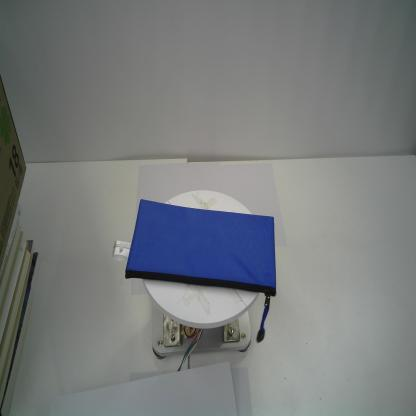Stationery: (124, 198, 277, 343)
